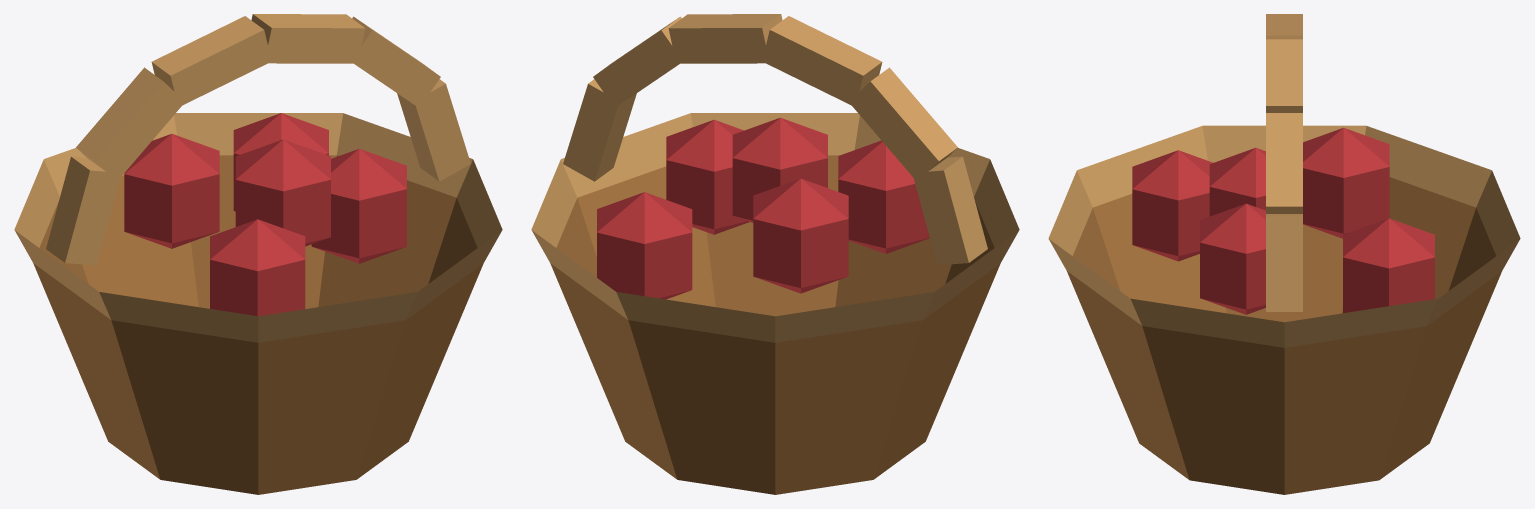
Rendered from basket_marker.glb.
3 renders of one model, left to right at view 1: azimuth 30°, elevation 25°; view 2: azimuth 150°, elevation 25°; view 3: azimuth 270°, elevation 25°, orthographic. The views are drawn at different scales.
Visible parts, largest first — view 1: BasketMarker; view 2: BasketMarker; view 3: BasketMarker.
Boxes of the visible parts, <box> form: BasketMarker: <box>14,14,502,494</box>; BasketMarker: <box>531,14,1019,494</box>; BasketMarker: <box>1048,14,1520,494</box>.
Bounding box in the file's own units: 0.7703 × 0.72 × 0.7799.
